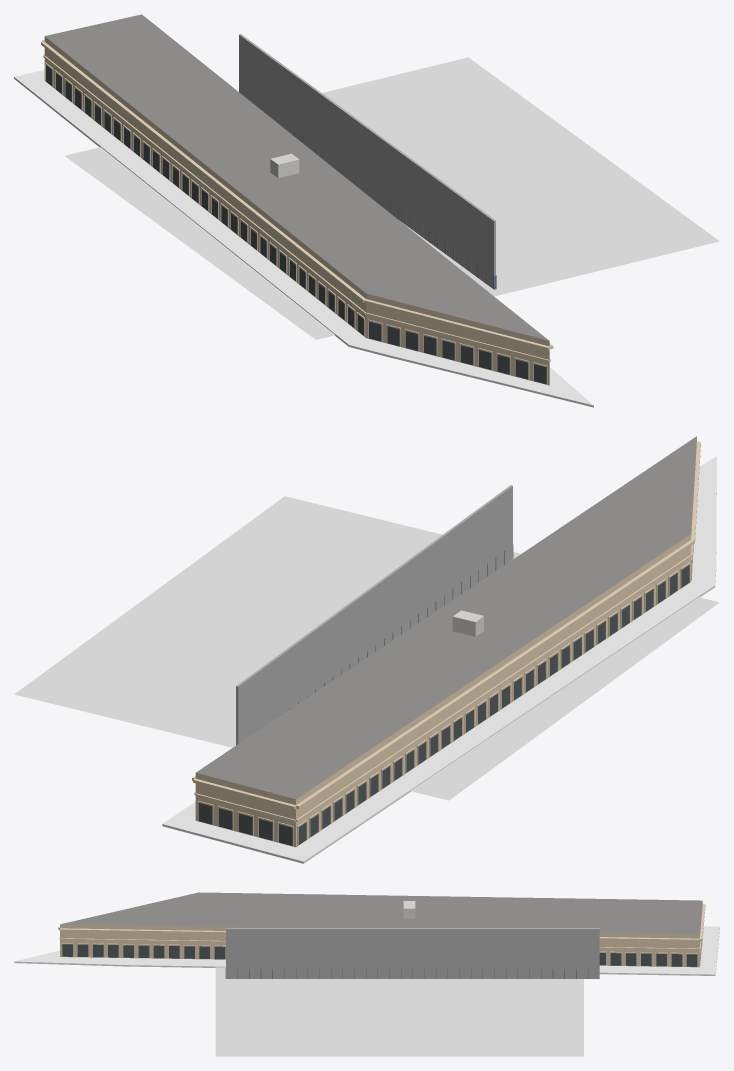
The model's file is chunk_06_02.glb.
The picture shows the model from 3 angles, top to bottom: view 1: azimuth 30°, elevation 25°; view 2: azimuth 150°, elevation 25°; view 3: azimuth 270°, elevation 25°; orthographic projection. The views are drawn at different scales.
Visible parts, largest first — view 1: chunk_06_02_LOD0, chunk_06_02_COL; view 2: chunk_06_02_LOD0, chunk_06_02_COL; view 3: chunk_06_02_LOD0, chunk_06_02_COL.
Boxes of the visible parts, x1,y1,x2,y2 form: chunk_06_02_LOD0: (14,14,719,407); chunk_06_02_COL: (239,34,495,288); chunk_06_02_LOD0: (14,436,719,863); chunk_06_02_COL: (236,485,512,745); chunk_06_02_LOD0: (14,892,719,1056); chunk_06_02_COL: (226,928,599,978).
Size of what is drawn, in the model's own units: 74.18 by 12.3 by 153.
